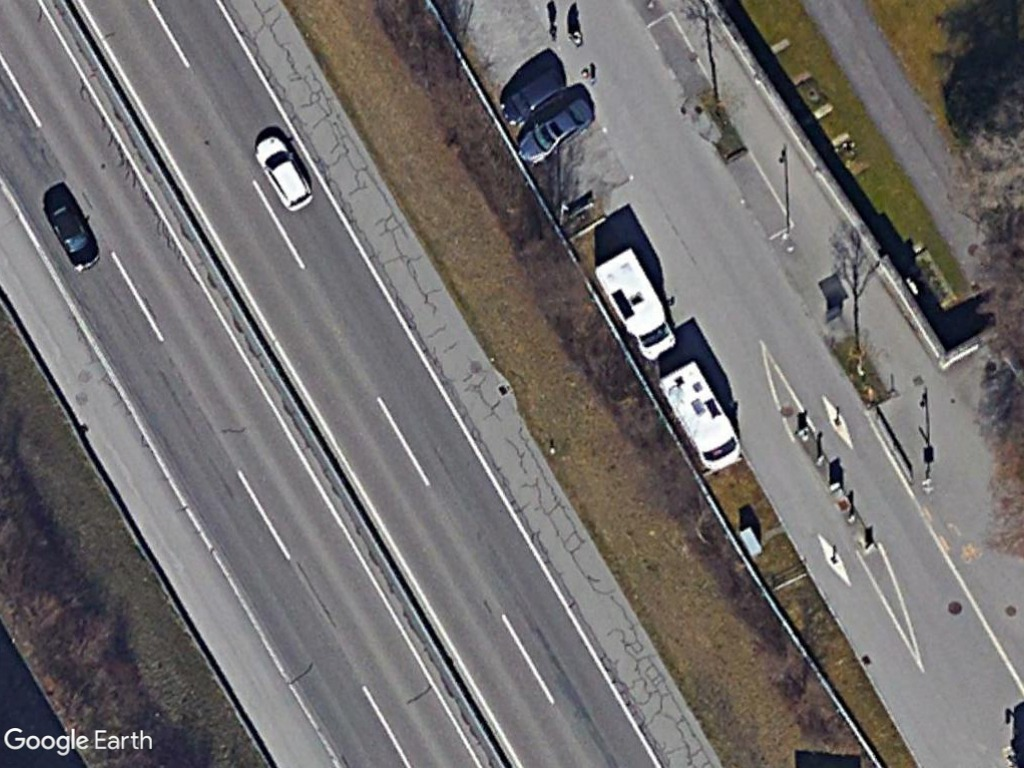car: (515, 95, 596, 166), (252, 135, 315, 214), (46, 201, 102, 272)
truck: (594, 244, 678, 364)
van: (657, 357, 745, 472)
